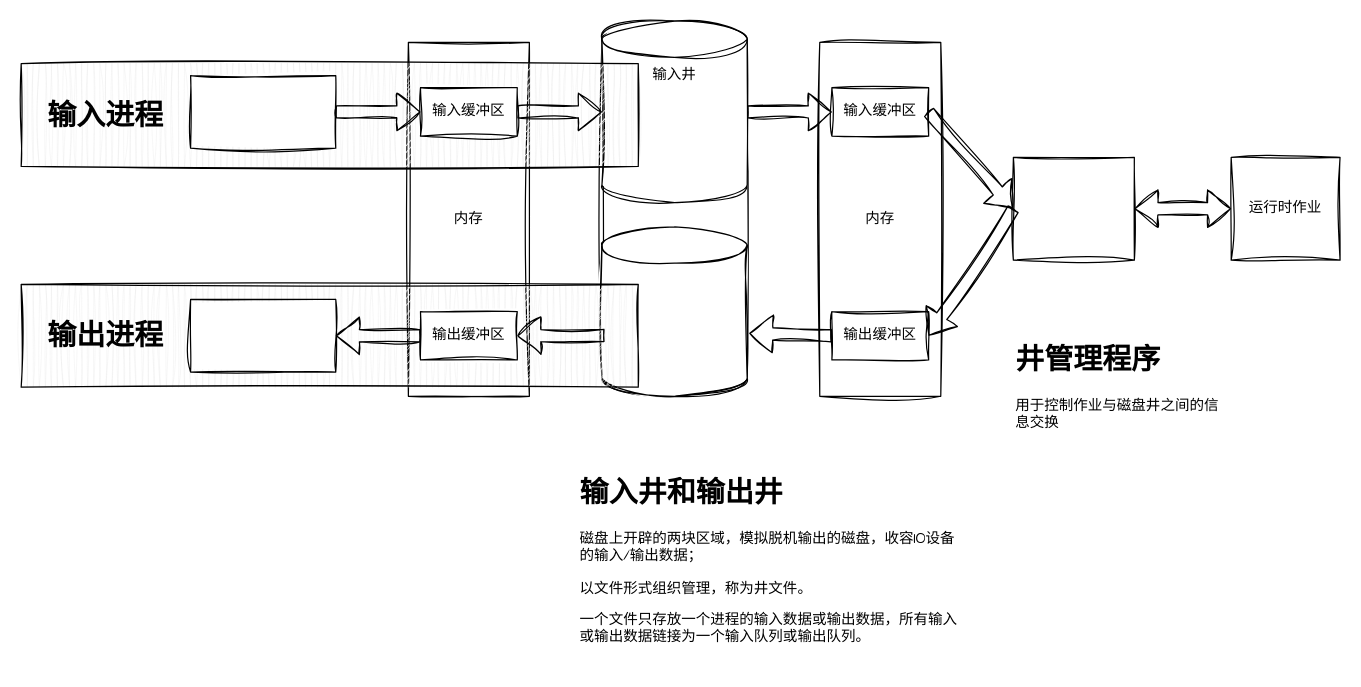
Some shapes in this 1361 by 687 pixel diagram are drawn without their labels. The centre of each missing label's shape, as x and y in pixels:
"井管理程序" goes at point 1073,208.
"输入设备" goes at point 262,111.
"输出井" goes at point 674,311.
"输出设备" goes at point 262,335.
